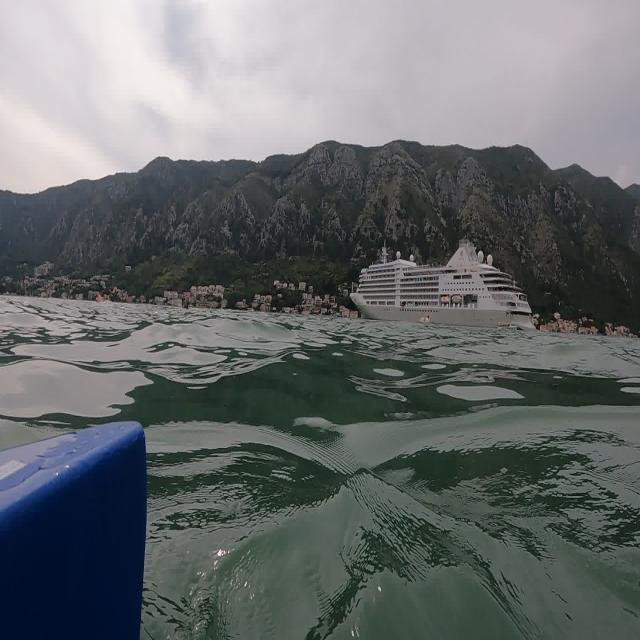boat: (348, 232, 536, 331)
